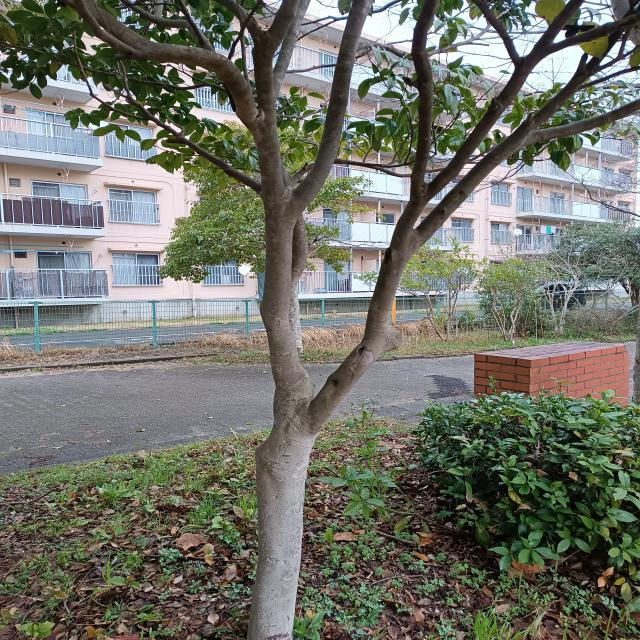Branch: (61, 0, 257, 129), (308, 231, 416, 426), (259, 188, 314, 409), (251, 105, 286, 193), (254, 32, 278, 109)
Twig: (428, 0, 586, 201), (417, 68, 592, 249), (106, 85, 264, 192), (296, 0, 373, 209), (393, 0, 440, 240), (519, 99, 640, 148), (546, 13, 640, 56), (81, 63, 145, 120), (76, 2, 137, 57), (471, 1, 519, 65), (214, 0, 263, 42), (593, 22, 629, 75), (267, 0, 300, 48), (588, 30, 623, 70), (579, 67, 640, 89), (576, 51, 585, 74)
